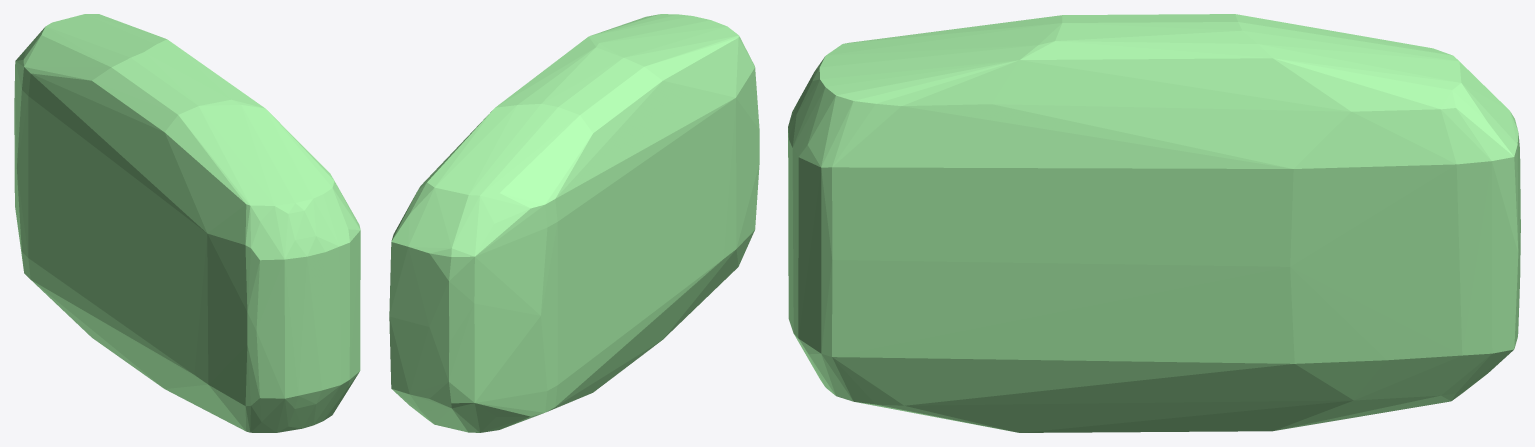
File: robomaster_ep_robot_base_coll_1.dae
3 views of the same model, side by side, from view 1: azimuth 30°, elevation 25°; view 2: azimuth 150°, elevation 25°; view 3: azimuth 270°, elevation 25° (orthographic). The views are drawn at different scales.
Visible parts, largest first — view 1: Node_0x7fd394415be0; view 2: Node_0x7fd394415be0; view 3: Node_0x7fd394415be0.
Part boxes in pixels (bbox=[...]): Node_0x7fd394415be0: bbox=[14, 14, 360, 432]; Node_0x7fd394415be0: bbox=[389, 14, 759, 432]; Node_0x7fd394415be0: bbox=[788, 14, 1520, 432].
Bounding box in the file's own units: 0.0921 × 0.1921 × 0.332.
